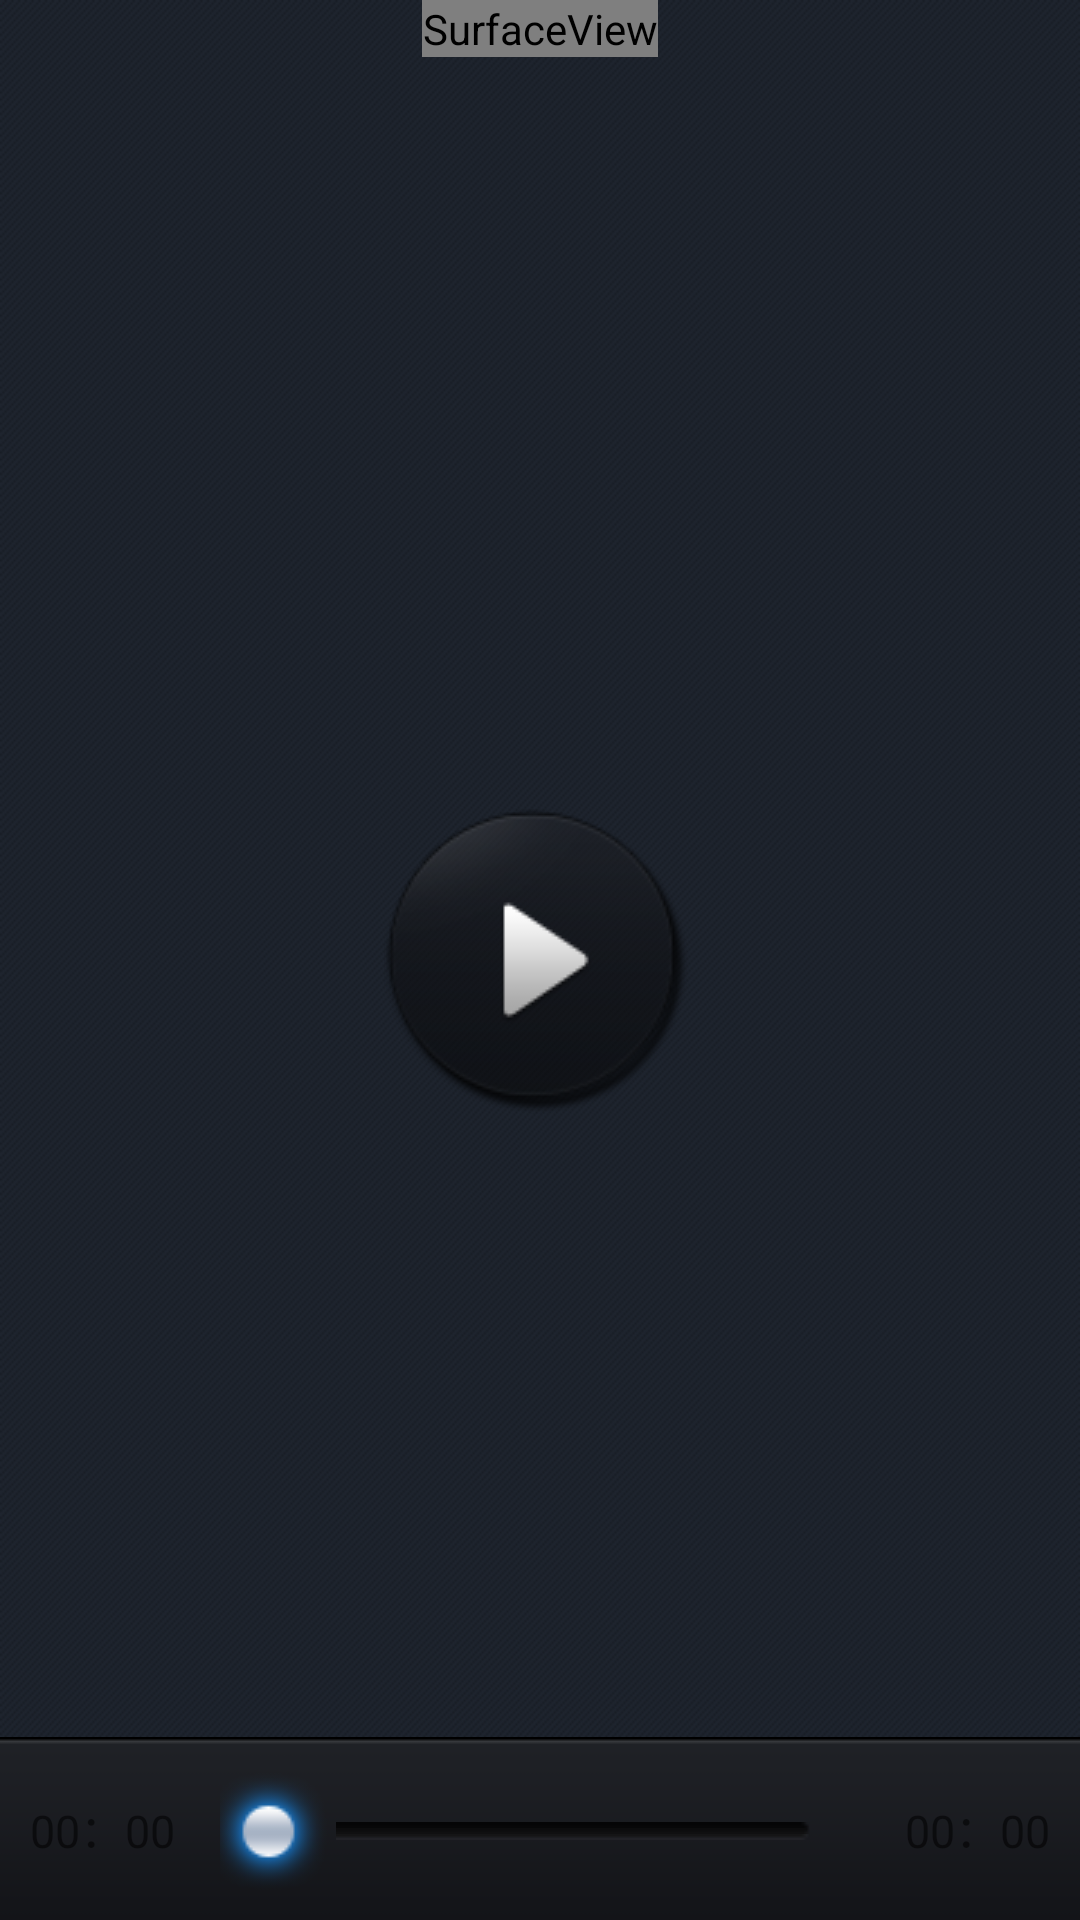

Screen size 1080px x 1920px. Icon name, then its box in pixels as box(x1, y1, x2, y2):
video play: box(391, 814, 679, 1104)
